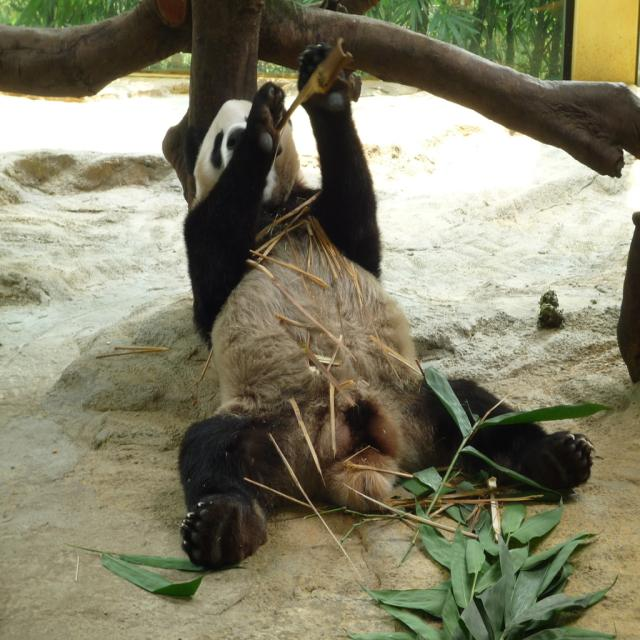panda: (172, 28, 600, 574)
